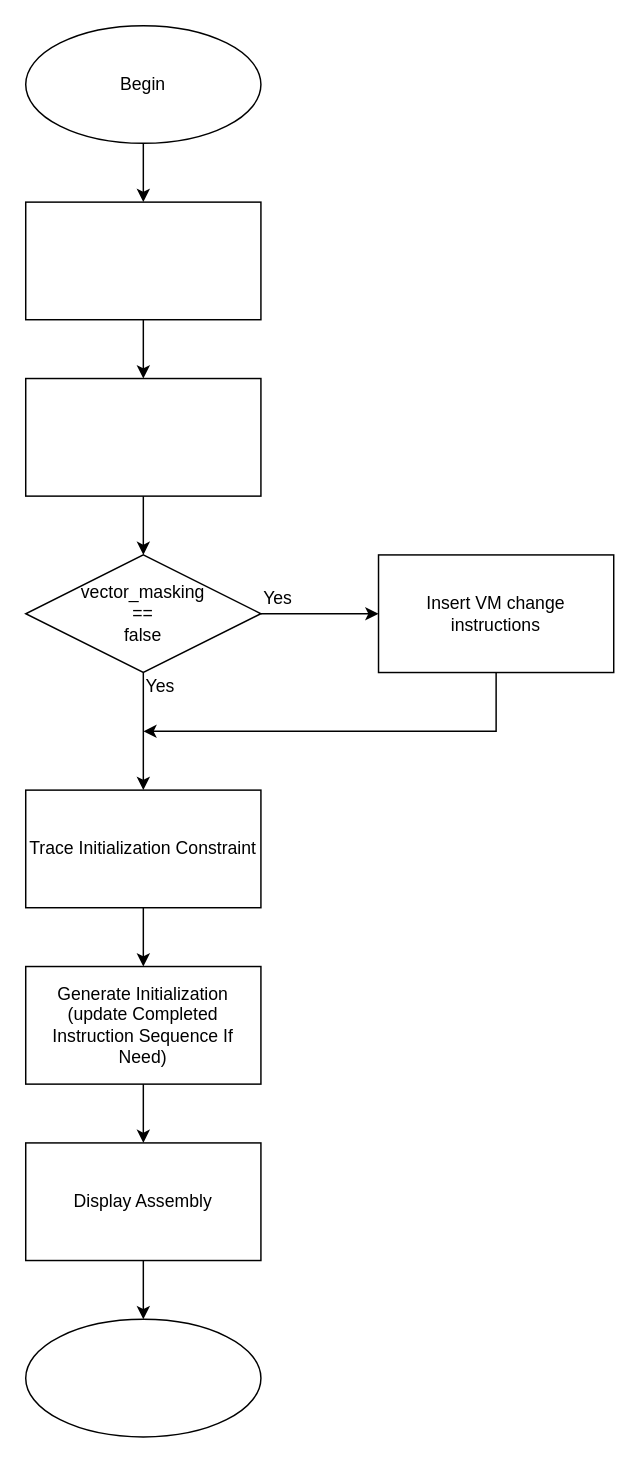
This 639x1463 diagram has some shape labels left out. Each missing label, with the centre of its shape:
"End" goes at [142,1377].
"Generate Completed Instruction Sequence (using repeated random)" goes at [142,436].
"Generate Operator Sequence (using GA)" goes at [142,260].
